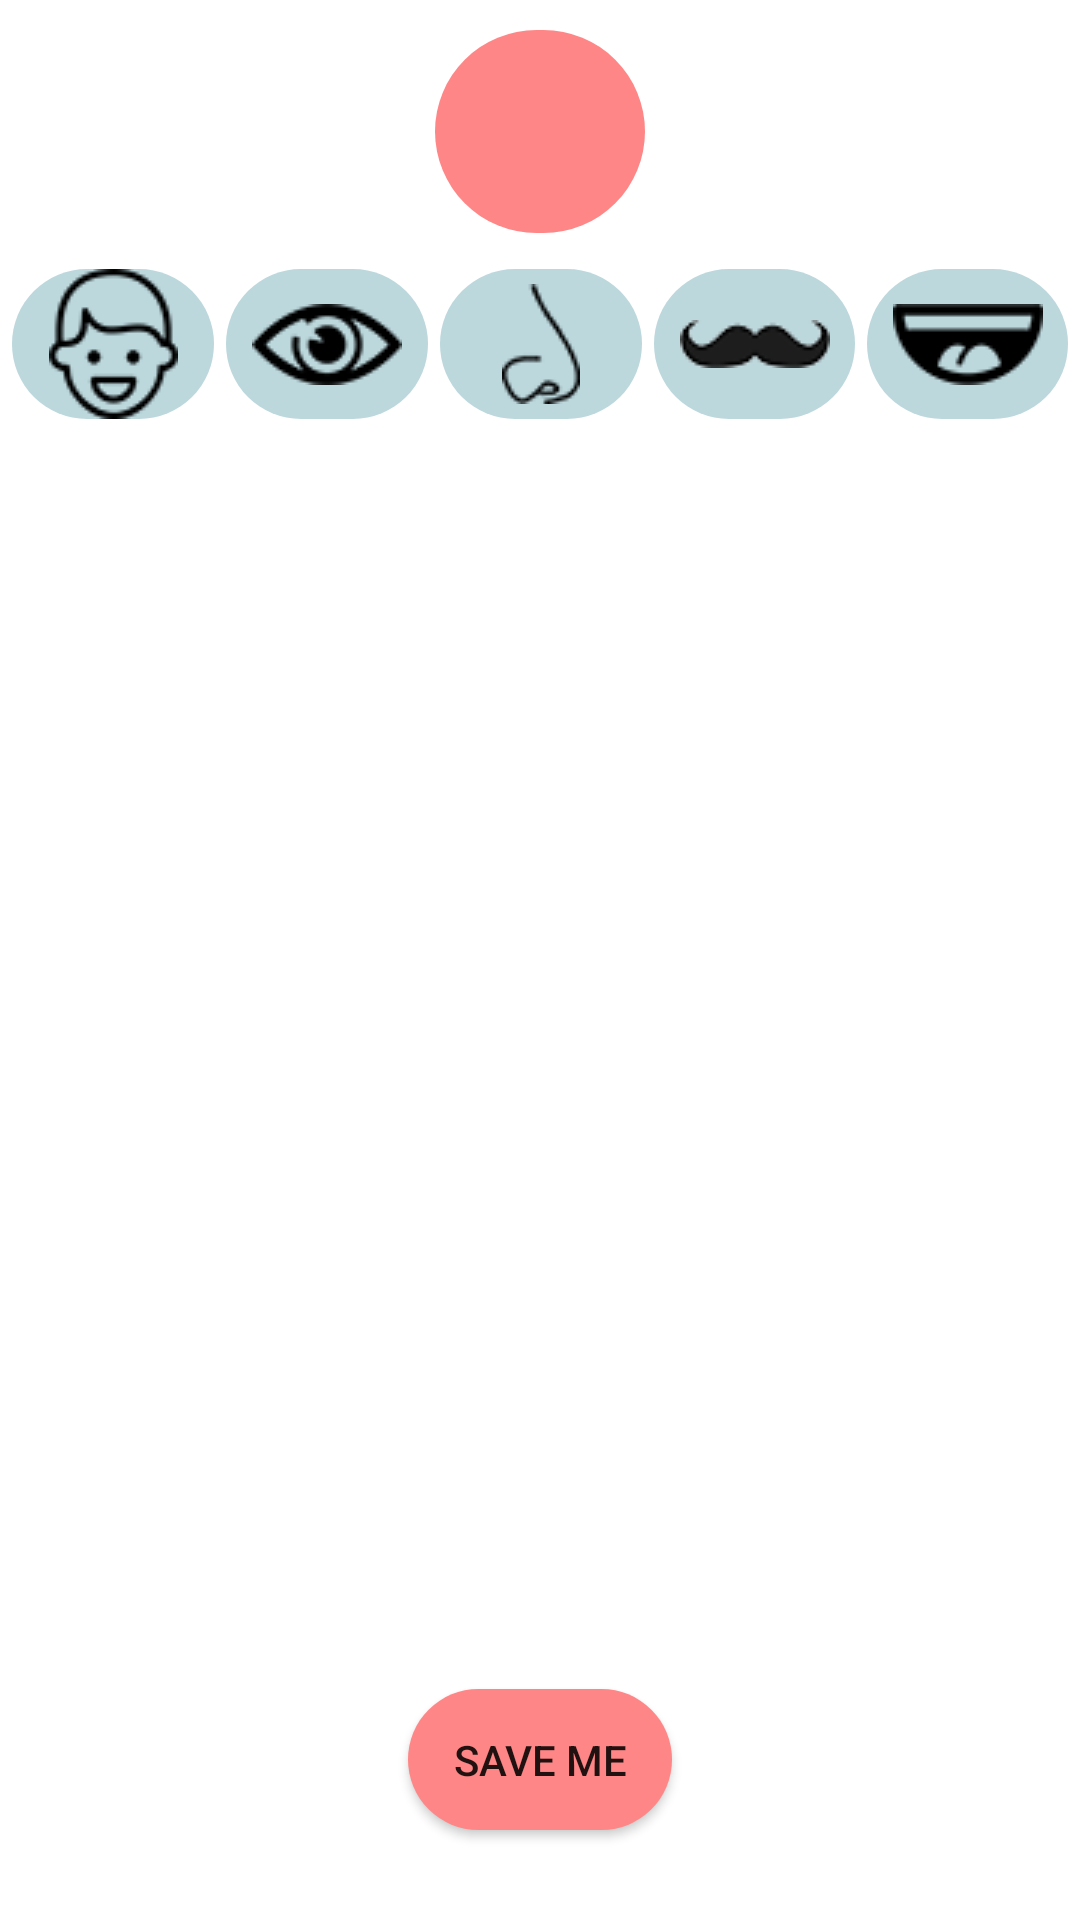

Point at icon controls on the screen. Image size 1080px×1920px, points as (x,y).
eyes: (327,344)
mouth: (967,344)
mustache: (754,344)
nose: (541,344)
smiley: (113,344)
